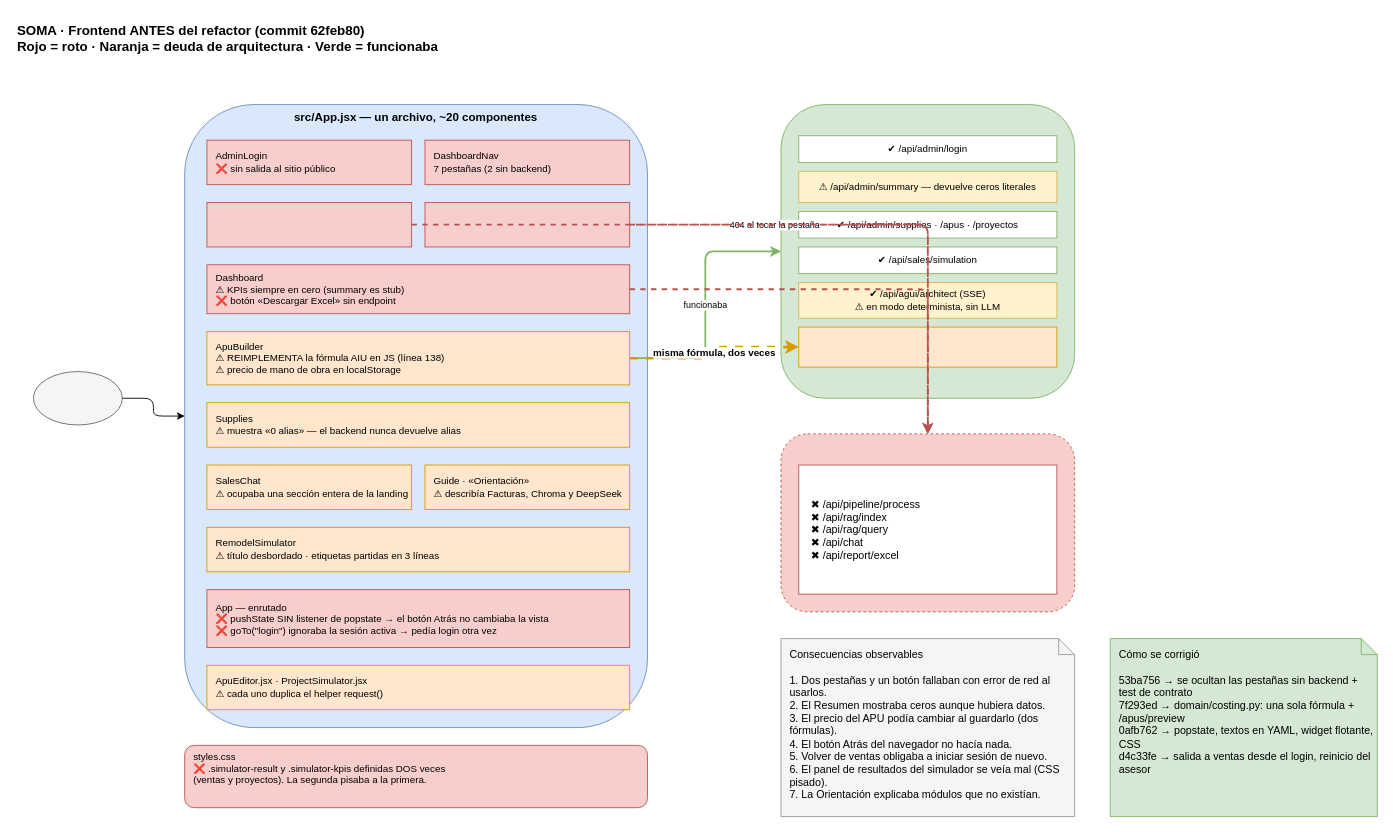
The diagram is 1393 pixels wide and 832 high, and some of its shapes have lost their labels. Each missing label, with the box of its shape:
FastAPI — rutas registradas en main.py: (780, 104, 1075, 398)
NO EXISTE NINGUNA DE ESTAS RUTAS: (780, 433, 1075, 612)
Pipeline · pestaña «Facturas» ❌ endpoint inexistente: (206, 202, 412, 247)
Rag · pestaña «Inteligencia» ❌ 3 endpoints inexistentes: (424, 202, 630, 247)
Usuario: (32, 371, 122, 425)
⚠ construction.py calcula el AIU (segunda copia de la fórmula): (798, 326, 1057, 367)
